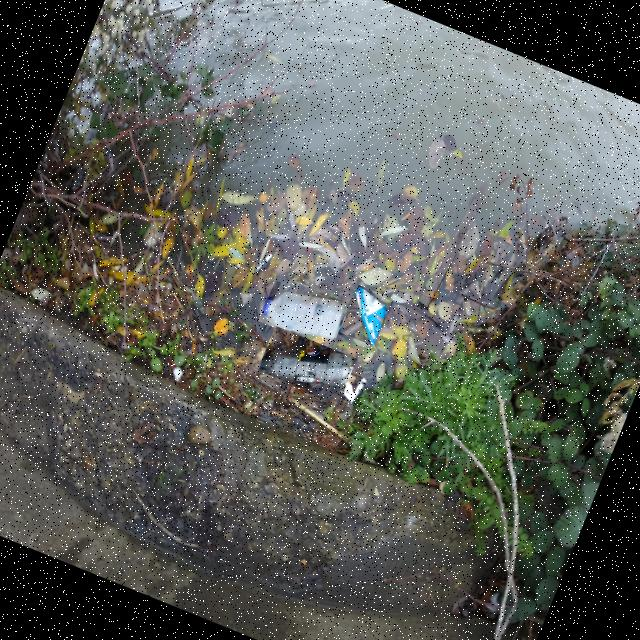Clear plastic bottle: (263, 292, 346, 340), (260, 349, 353, 386)
Crisp packet: (355, 286, 386, 346)
Plastic bottle cap: (268, 282, 280, 300)
Unlabeled litter: (267, 238, 310, 262), (340, 378, 366, 403), (254, 262, 268, 275), (264, 253, 272, 258)
